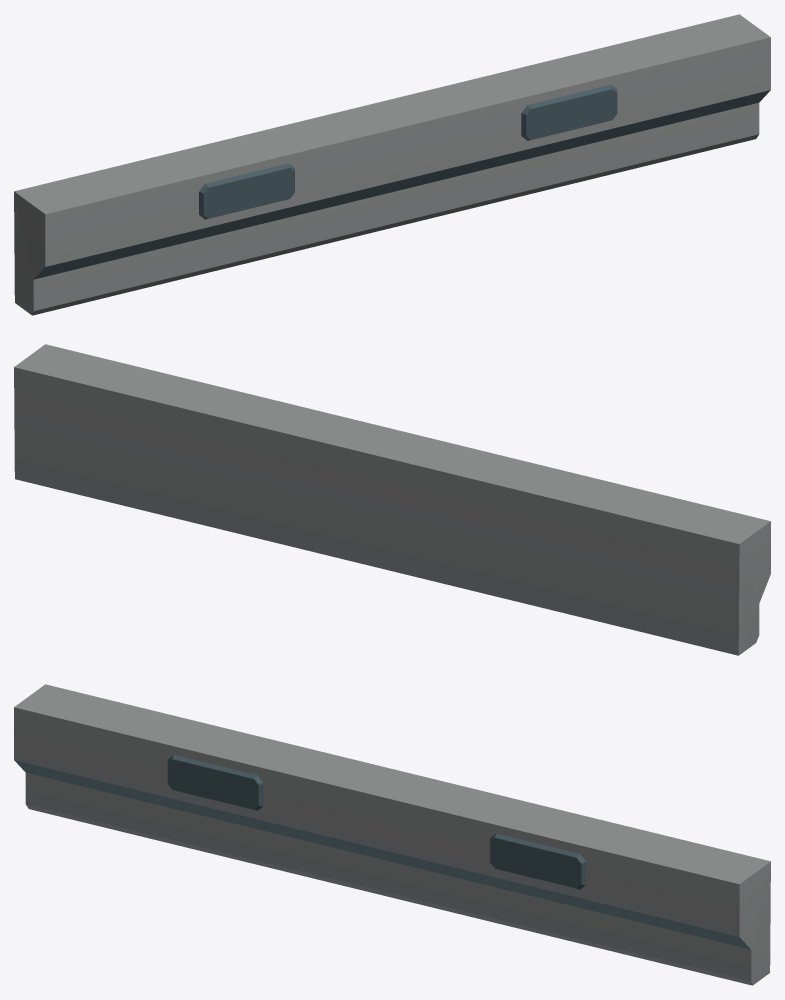
Rendered from Wall_type_B_023.fbx.
3 renders of one model, top to bottom at view 1: azimuth 30°, elevation 25°; view 2: azimuth 150°, elevation 25°; view 3: azimuth 330°, elevation 25°, orthographic.
Visible parts, largest first — view 1: Wall_type_B_023; view 2: Wall_type_B_023; view 3: Wall_type_B_023.
Part boxes in pixels (x1=…): Wall_type_B_023: x1=14, y1=14, x2=770, y2=315; Wall_type_B_023: x1=14, y1=344, x2=770, y2=655; Wall_type_B_023: x1=14, y1=684, x2=770, y2=985.
Bounding box in the file's own units: 360 × 28.98 × 53.
